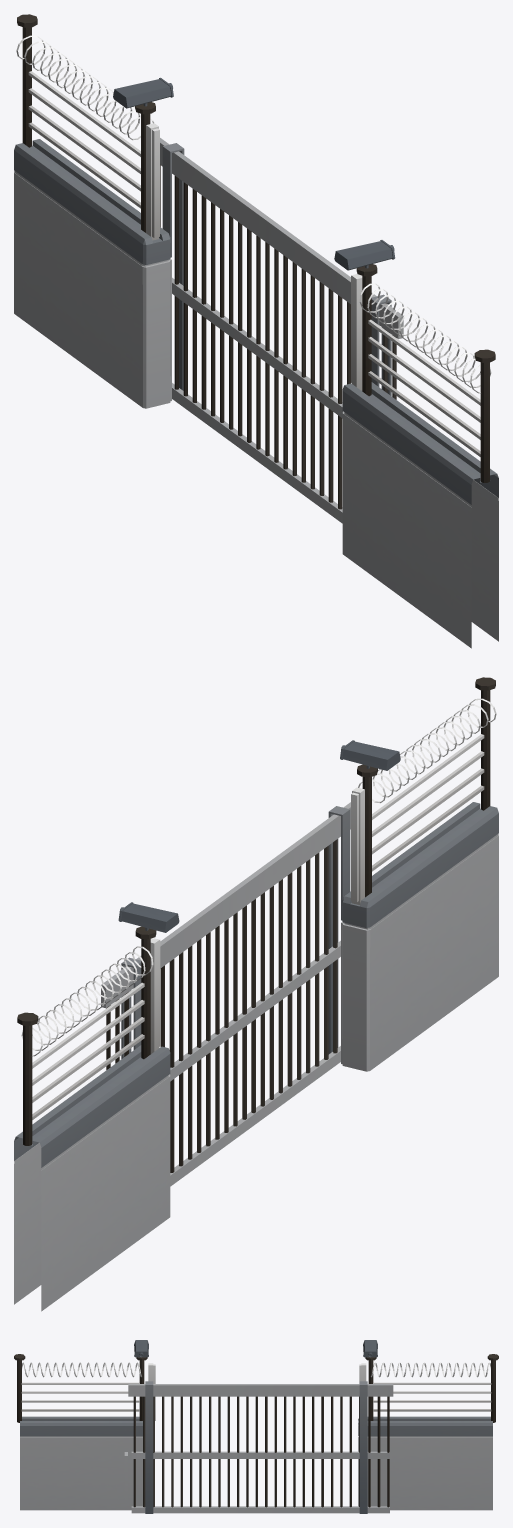
Rendered from puerta.fbx.
3 renders of one model, top to bottom at view 1: azimuth 30°, elevation 25°; view 2: azimuth 150°, elevation 25°; view 3: azimuth 270°, elevation 25°, orthographic. The views are drawn at different scales.
Visible parts, largest first — view 1: Muro_puertaIzquierda1, puerta1; view 2: Muro_puertaIzquierda1, puerta1; view 3: Muro_puertaIzquierda1, puerta1.
Part boxes in pixels (box(x1,y1,x2,y2)): Muro_puertaIzquierda1: box(14, 14, 498, 648); puerta1: box(160, 138, 403, 523); Muro_puertaIzquierda1: box(14, 677, 498, 1311); puerta1: box(101, 802, 350, 1186); Muro_puertaIzquierda1: box(14, 1340, 498, 1513); puerta1: box(128, 1384, 393, 1513).
Bounding box in the file's own units: 440 × 2347 × 6416.
